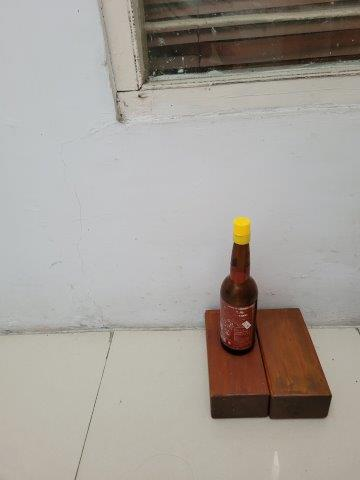botolkaca: (218, 219, 258, 354)
